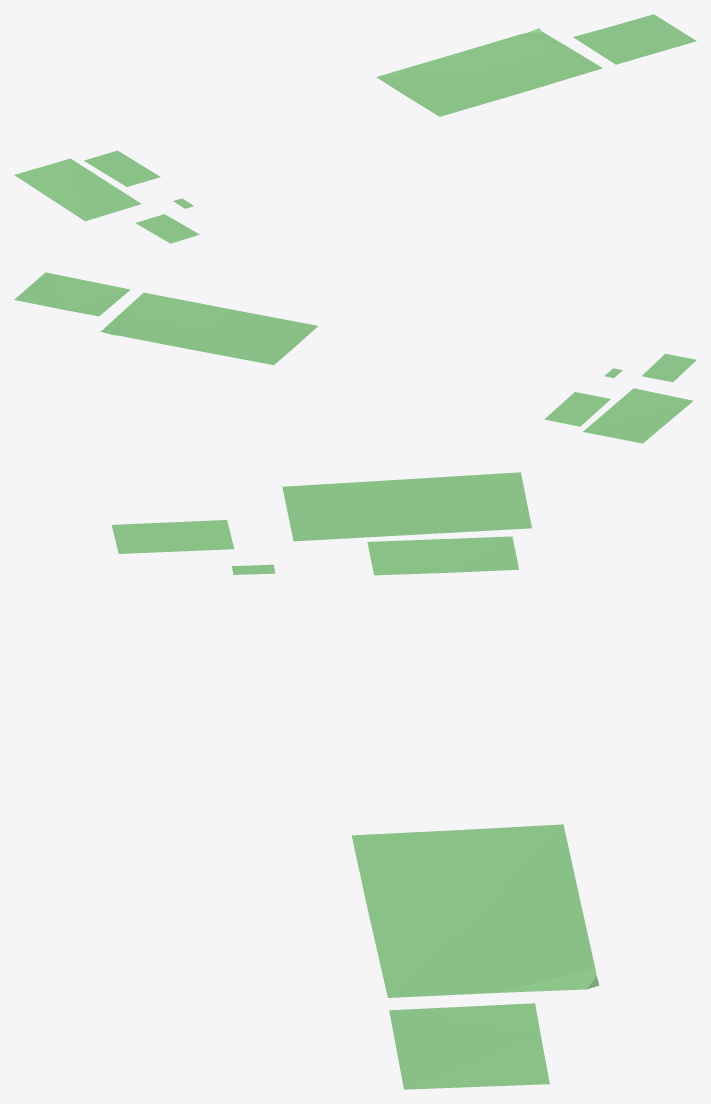
The model's file is boiska.gltf.
The picture shows the model from 3 angles, top to bottom: view 1: azimuth 30°, elevation 25°; view 2: azimuth 150°, elevation 25°; view 3: azimuth 270°, elevation 25°; orthographic projection. The views are drawn at different scales.
Parts seen in each view (by area): view 1: Drapowane_boisko; view 2: Drapowane_boisko; view 3: Drapowane_boisko.
Part boxes in pixels (box(x1,y1,x2,y2)): Drapowane_boisko: box(14, 14, 696, 243); Drapowane_boisko: box(14, 272, 696, 443); Drapowane_boisko: box(111, 472, 599, 1089).
Bounding box in the file's own units: 287 × 1.38 × 96.86.
